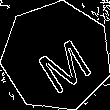M_NW: (23, 23, 90, 90)
